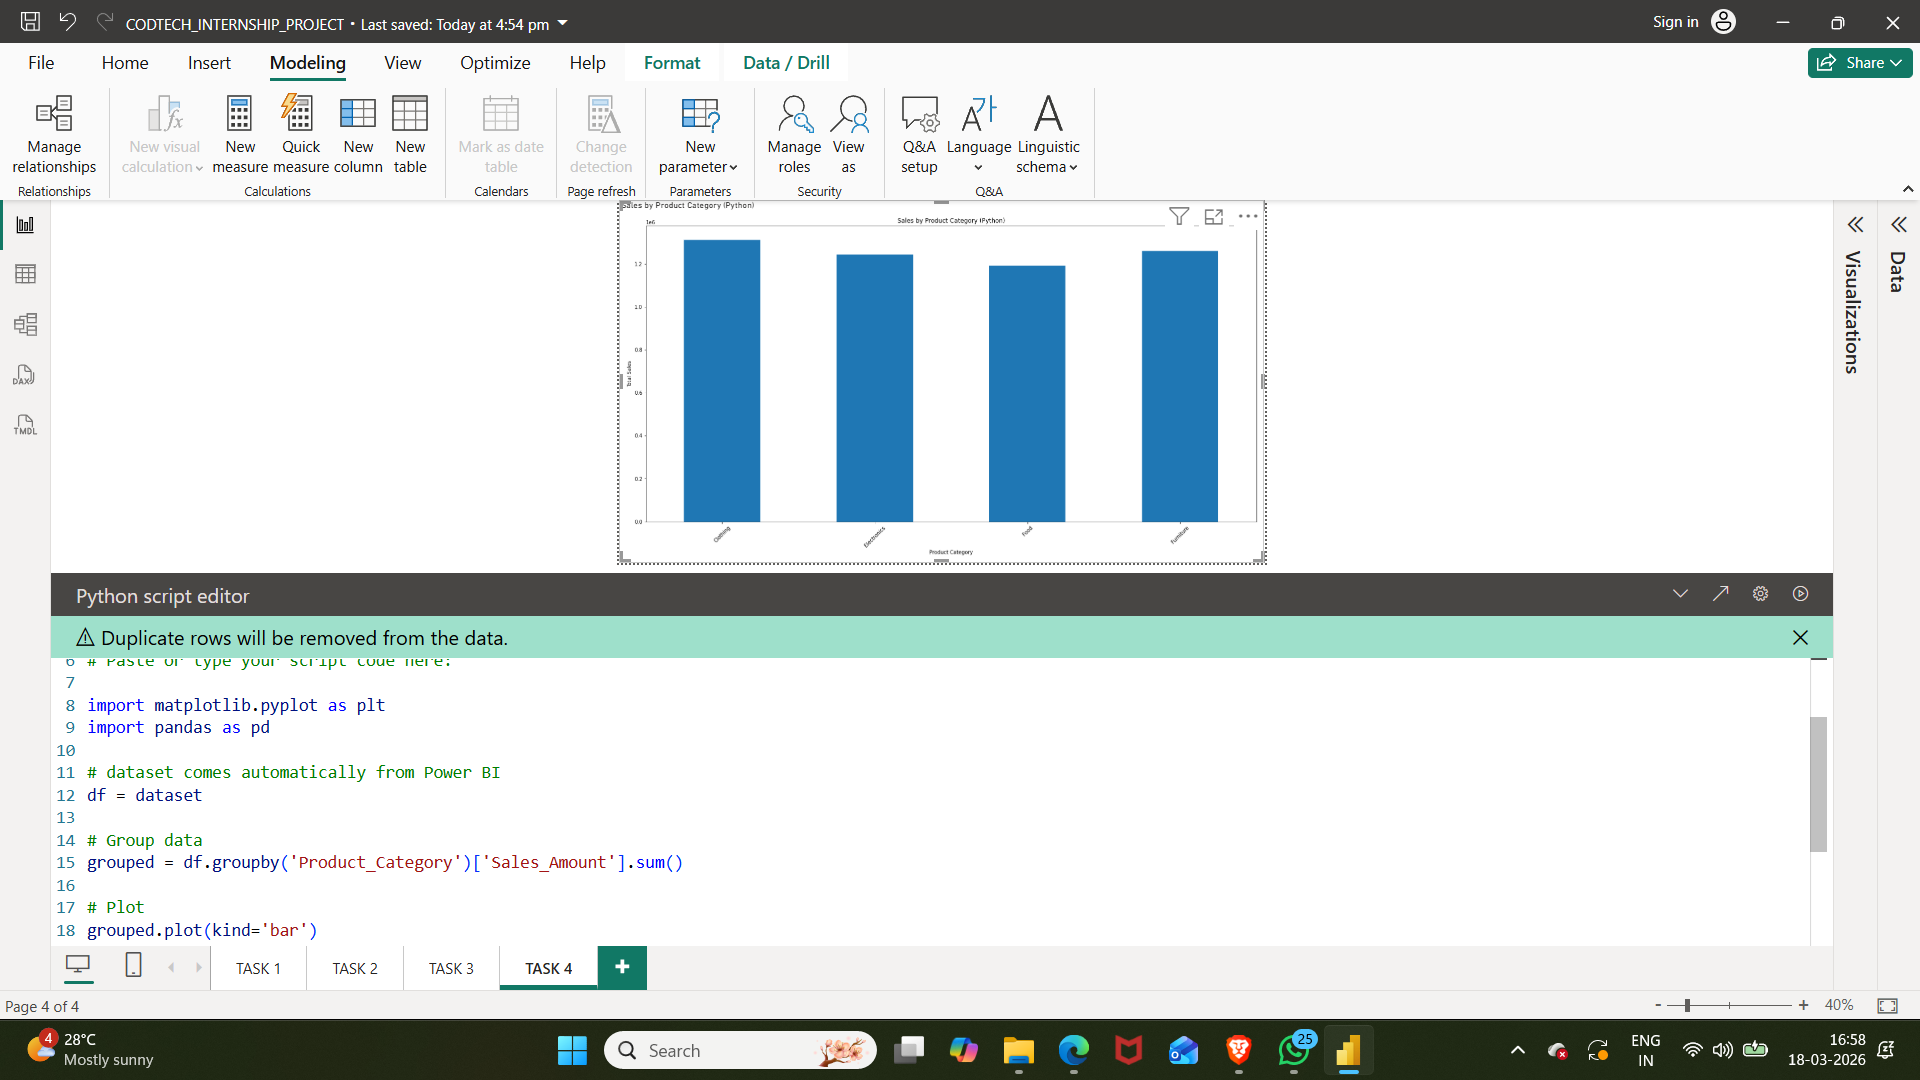

The page's visual inventory and layout, read from the dashboard file:
{"tool":"powerbi","page":{"name":"TASK 4","canvas":[1280,720],"ordinal":3},"visuals":[{"type":"pythonVisual","title":"Sales by Product Category (Python)","fields":{"Values":["sales_data.Sales_Amount","sales_data.Product_Category"]},"box":[0,0,1279.8,720.2],"z":0}]}

Visuals, with their boxes on the page's 1280x720 design canvas (x1, y1, x2, y2). These are canvas units, not pixel positions in the 1920x1080 screenshot, which may show the page scaled, cropped or inside an application window:
"Sales by Product Category (Python)" pythonVisual: 0/0/1280/720
